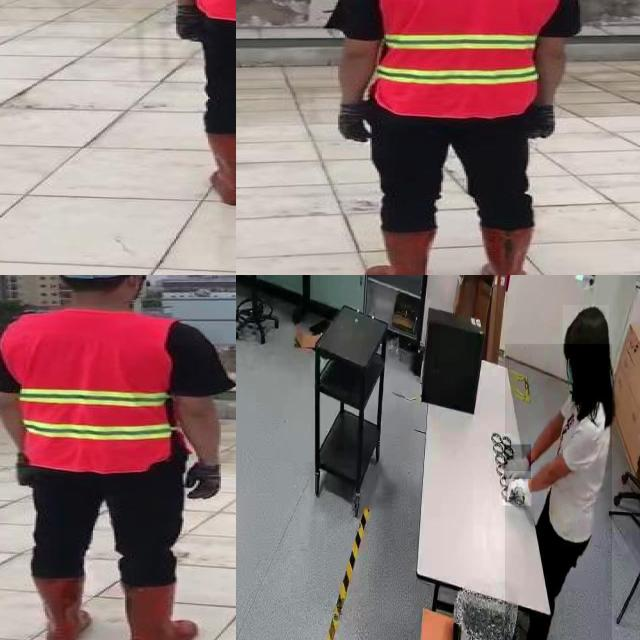boots: (116, 583, 203, 640), (27, 573, 96, 640), (364, 227, 435, 275), (197, 130, 236, 208), (476, 227, 535, 275)
hand_glove: (168, 0, 206, 46), (335, 103, 377, 142), (189, 459, 221, 499), (526, 108, 562, 138), (502, 471, 532, 506), (504, 445, 531, 479)
head_nohelmet: (562, 305, 610, 345)
person: (0, 275, 236, 640), (326, 0, 584, 275), (505, 344, 612, 640), (141, 0, 236, 218)
vest: (0, 315, 181, 471), (373, 0, 554, 114)
